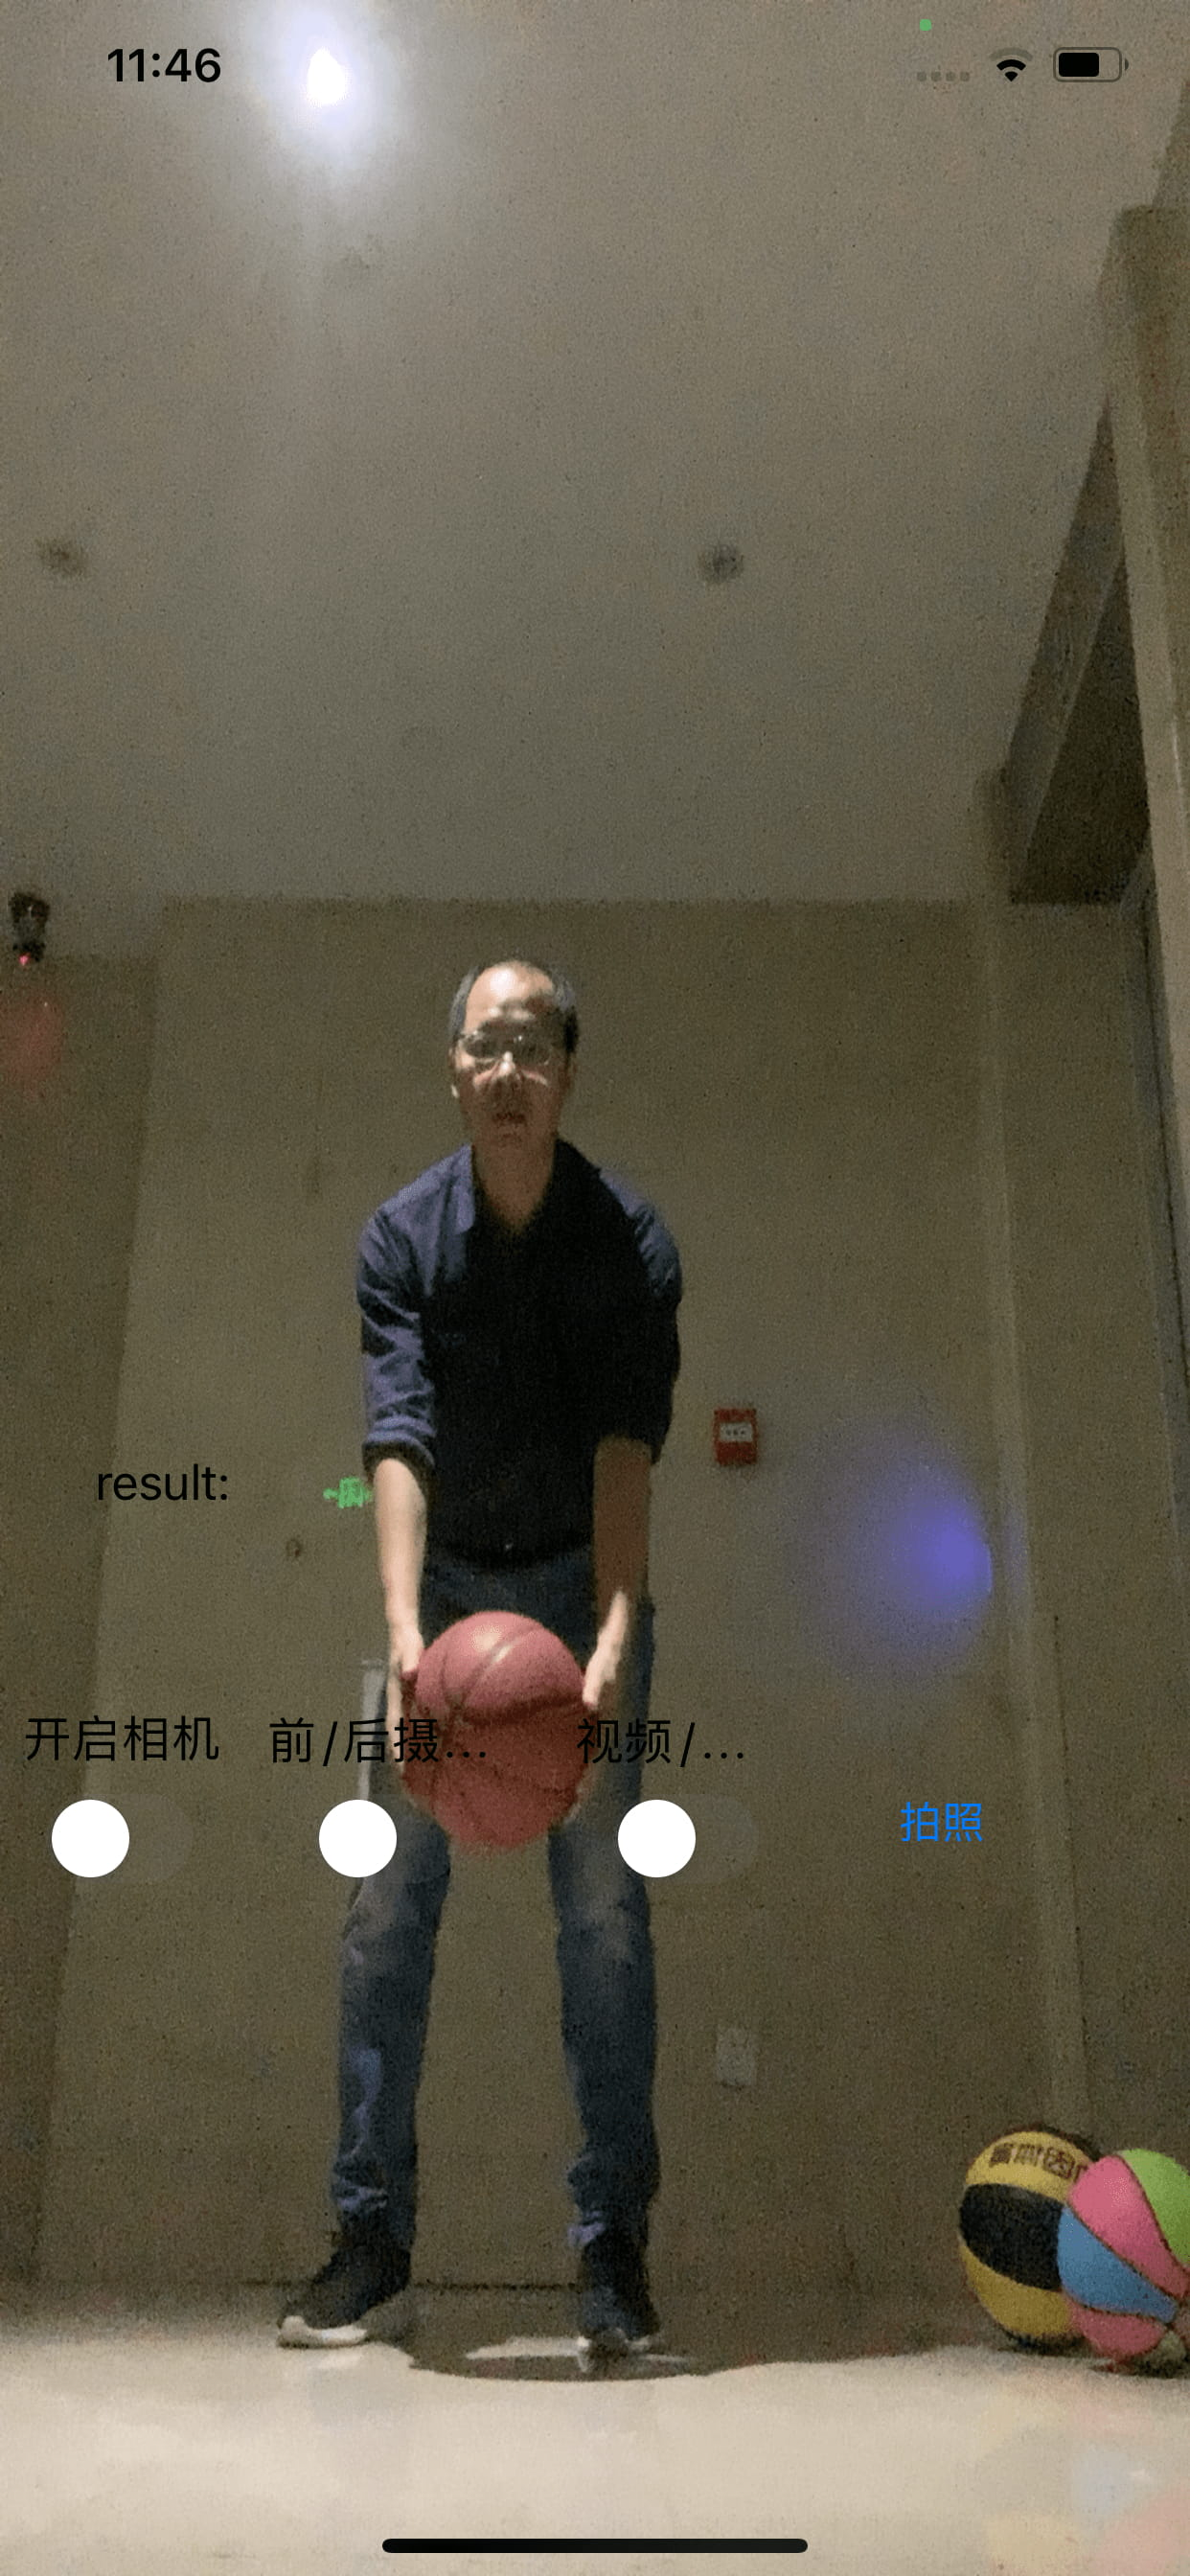ball: (406, 1608, 595, 1856), (1057, 2149, 1190, 2377), (963, 2127, 1088, 2353)
